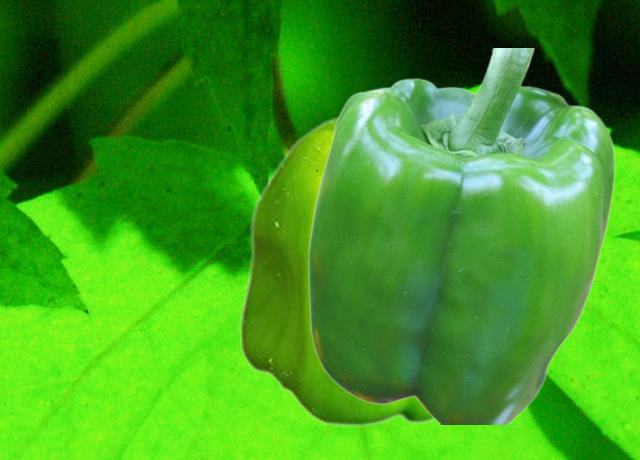bell_pepper: (307, 48, 614, 423), (238, 116, 435, 426)
